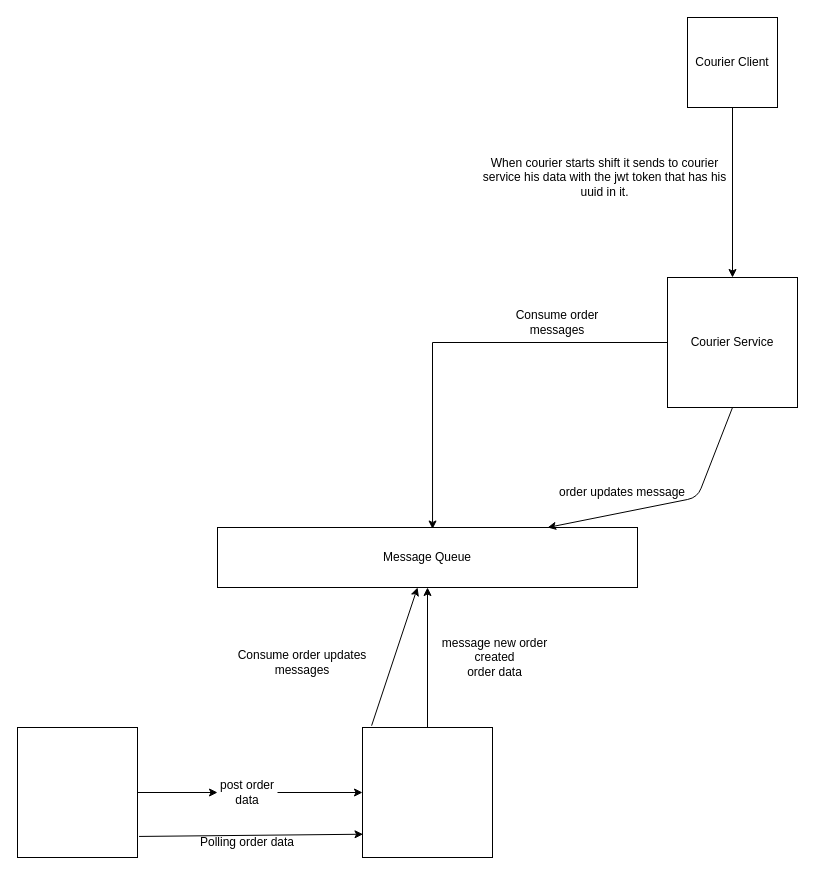
This 815x895 diagram has some shape labels left out. The shapes that lost their labels are listed below. From the top down, each one's box as (x1, y1, x2, y2) in pixels, then its label:
(16, 726, 138, 858): Webapp client
(362, 726, 492, 858): Order Service
